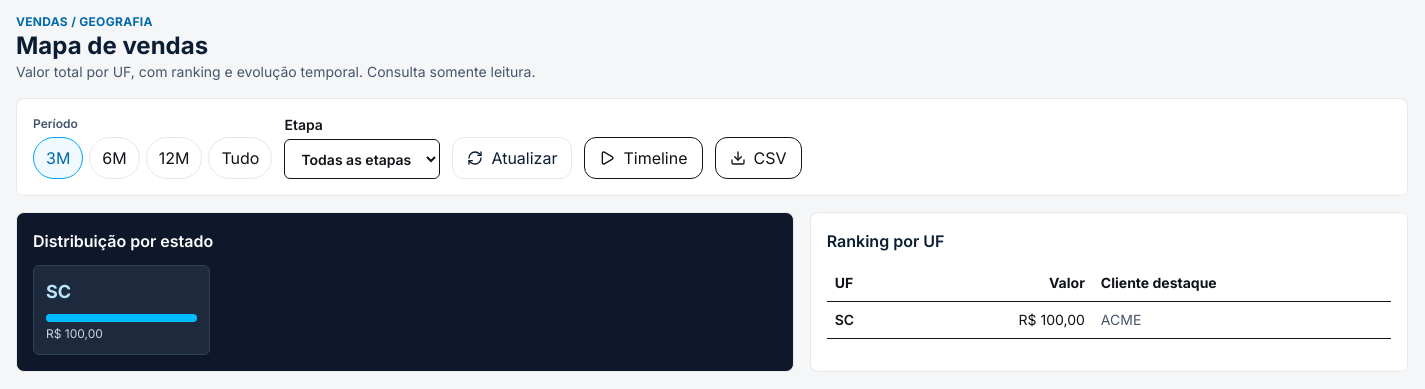
Test: SalesMapScreen › renders ranking, filters, export and timeline with GET-only contracts
The width and height of the screenshot is (1425, 389).
Check: the text "ACME" is shown, box [1093,302,1391,338]
Check: the heading "Distribuição por estado" is shown, box [33,231,213,251]
Click the button "Timeline" at (643, 158), box [584,137,702,179]
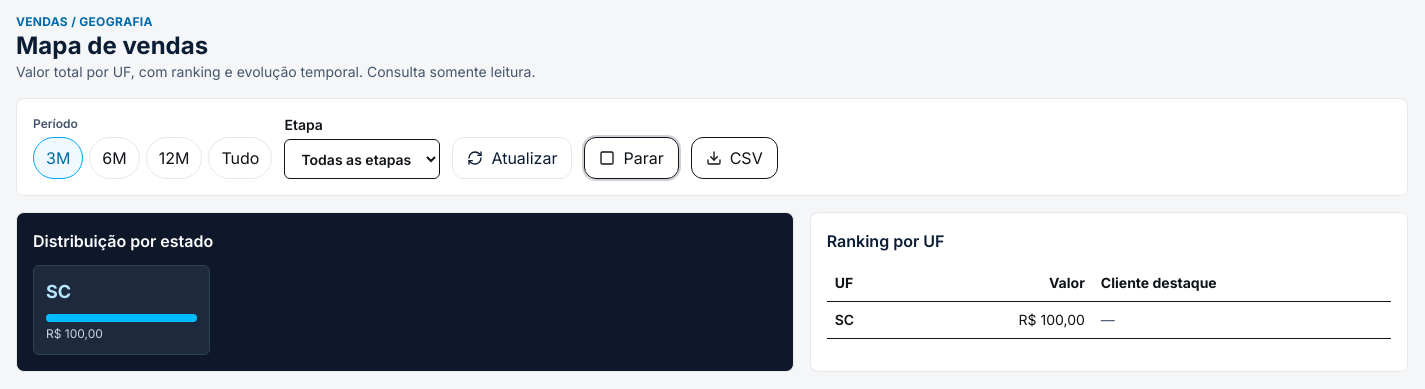
Check: the button "Parar" is shown, box [584,137,679,179]
